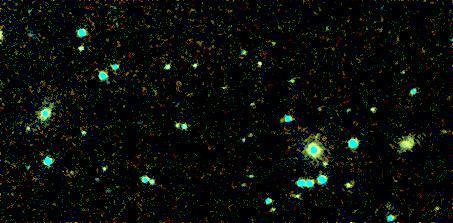star: (428, 115, 453, 145)
